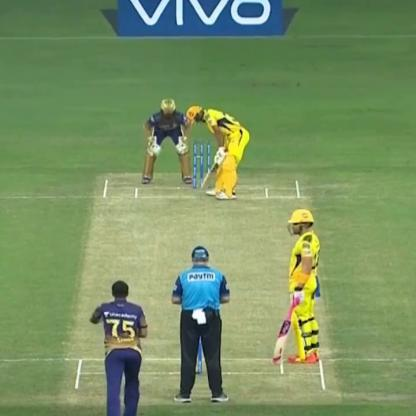pitch: (70, 167, 337, 406)
